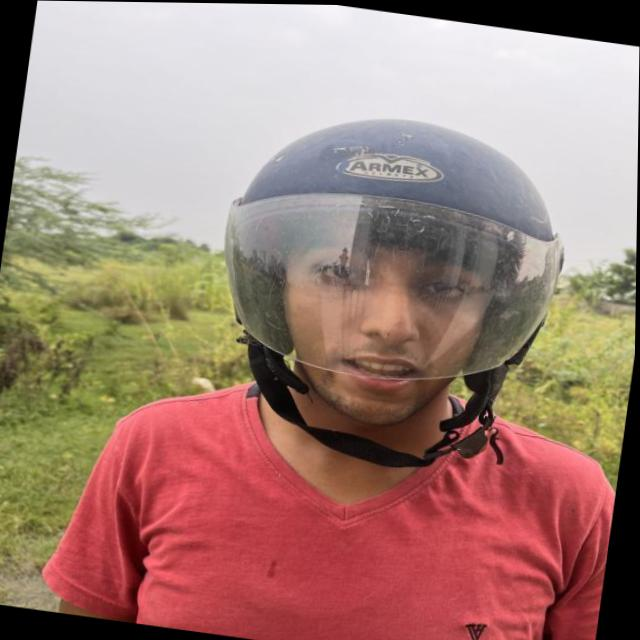helmet: (201, 98, 577, 482)
